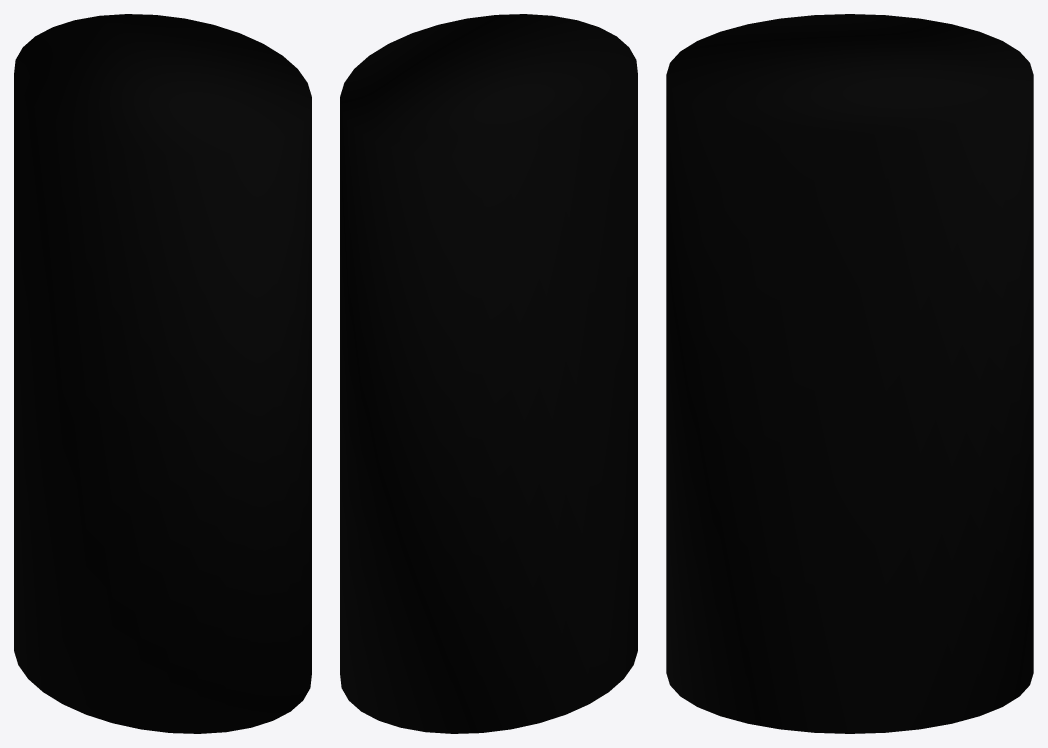
File: kabeteki_eye.fbx
3 views of the same model, side by side, from view 1: azimuth 30°, elevation 25°; view 2: azimuth 150°, elevation 25°; view 3: azimuth 270°, elevation 25° (orthographic). The views are drawn at different scales.
Parts seen in each view (by area): view 1: 立方体.002; view 2: 立方体.002; view 3: 立方体.002.
Boxes of the visible parts, x1,y1,x2,y2 form: 立方体.002: (14, 14, 311, 733); 立方体.002: (340, 14, 637, 733); 立方体.002: (666, 14, 1033, 733).
Bounding box in the file's own units: 96.27 × 75.26 × 173.
